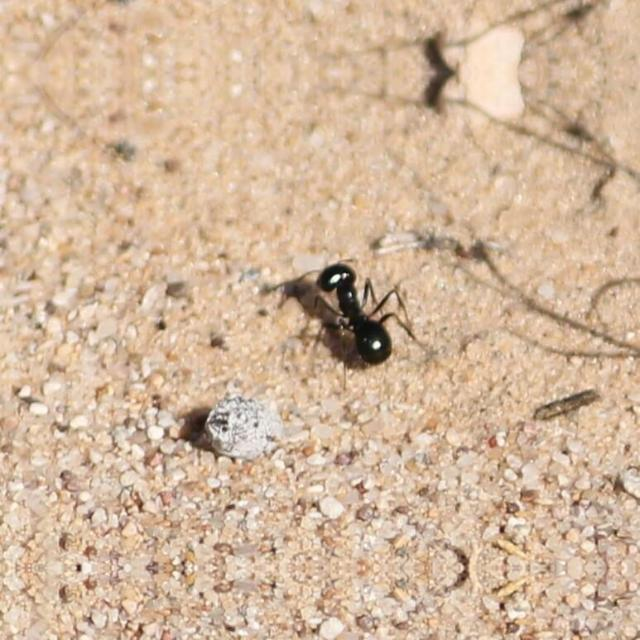Messor: (316, 253, 390, 365)
